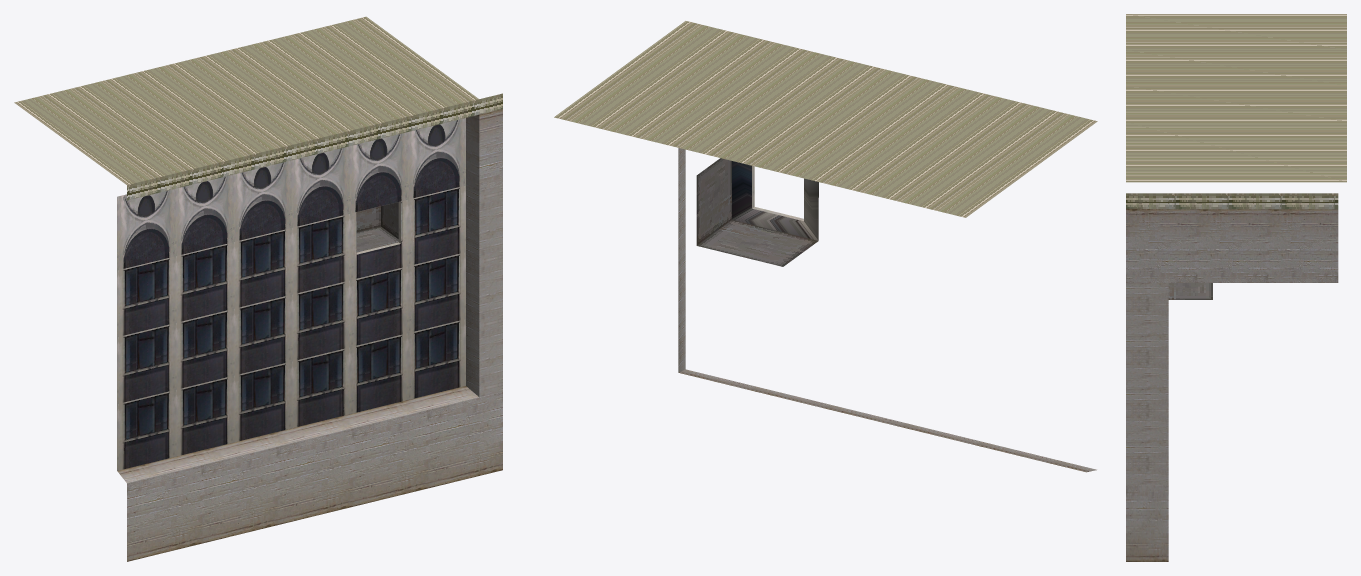
Rendered from M2Zone4_Building02.glb.
The picture shows the model from 3 angles, left to right: view 1: azimuth 30°, elevation 25°; view 2: azimuth 150°, elevation 25°; view 3: azimuth 270°, elevation 25°; orthographic projection. The views are drawn at different scales.
Visible parts, largest first — view 1: M2ZONE4_BUILDING02; view 2: M2ZONE4_BUILDING02; view 3: M2ZONE4_BUILDING02.
Boxes of the visible parts, box(x1,y1,x2,y2) form: M2ZONE4_BUILDING02: box(14, 16, 502, 561); M2ZONE4_BUILDING02: box(554, 21, 1097, 472); M2ZONE4_BUILDING02: box(1126, 14, 1346, 561).
Size of the model in its own units: 20 by 19.15 by 10.4.
Materials: 6 (6 with a texture image).
